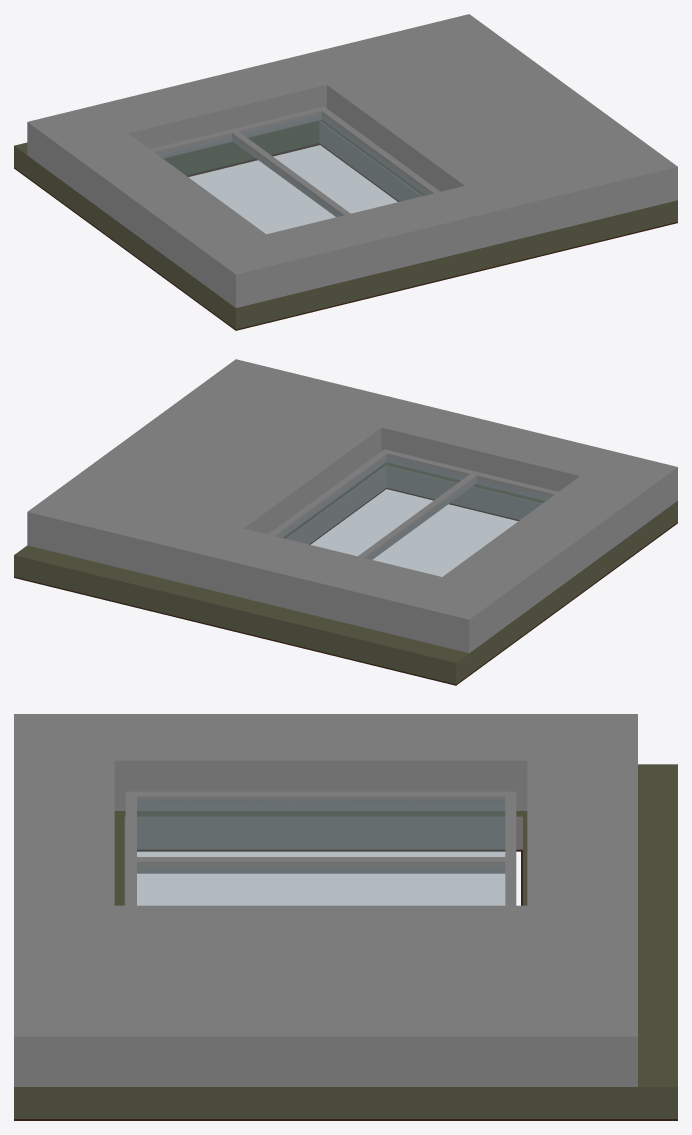
The picture shows the model from 3 angles, top to bottom: view 1: azimuth 30°, elevation 25°; view 2: azimuth 150°, elevation 25°; view 3: azimuth 270°, elevation 25°; orthographic projection. The views are drawn at different scales.
Parts seen in each view (by area): view 1: id-729, id-103, id-174, id-175, id-186, id-105; view 2: id-729, id-103, id-174, id-175, id-186 (×2), id-105; view 3: id-729, id-103, id-174, id-175, id-186, id-105.
Part boxes in pixels (x1,y1,x2,y2): id-729: (27, 14, 677, 307); id-103: (14, 120, 677, 329); id-174: (157, 113, 430, 233); id-175: (150, 106, 440, 216); id-186: (319, 121, 422, 201); id-105: (14, 143, 677, 330); id-729: (27, 359, 677, 653); id-103: (14, 462, 677, 684); id-174: (277, 456, 551, 576); id-175: (268, 449, 558, 559); id-186 (×2): (286, 465, 541, 544); id-105: (14, 488, 677, 685); id-729: (14, 714, 637, 1086); id-103: (14, 764, 677, 1118); id-174: (137, 800, 504, 905); id-175: (125, 791, 516, 905); id-186: (125, 816, 522, 849); id-105: (14, 849, 677, 1120).
Bounding box in the file's own units: 3.45 × 0.42 × 3.
